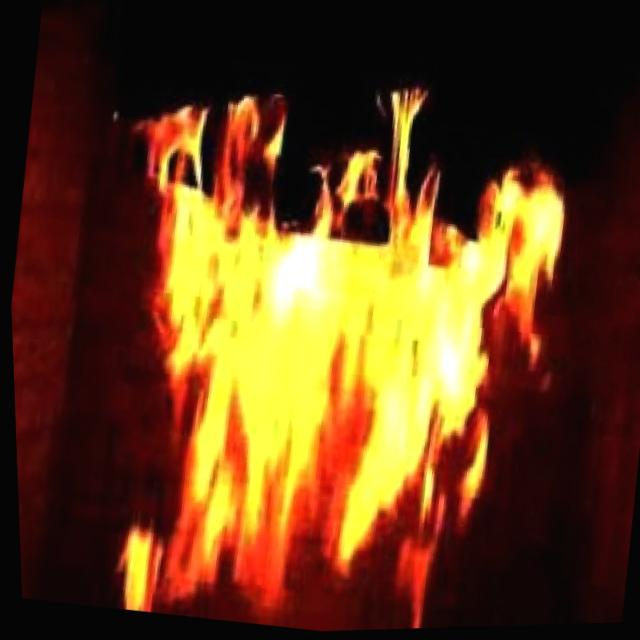helmet: (37, 18, 606, 639)
